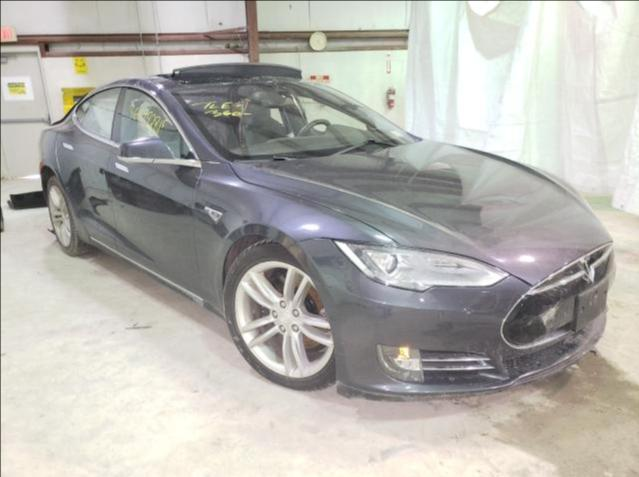Broken part: (501, 239, 615, 350), (582, 243, 608, 273)
Dent: (495, 331, 590, 387)
Scratch: (529, 300, 563, 327)
